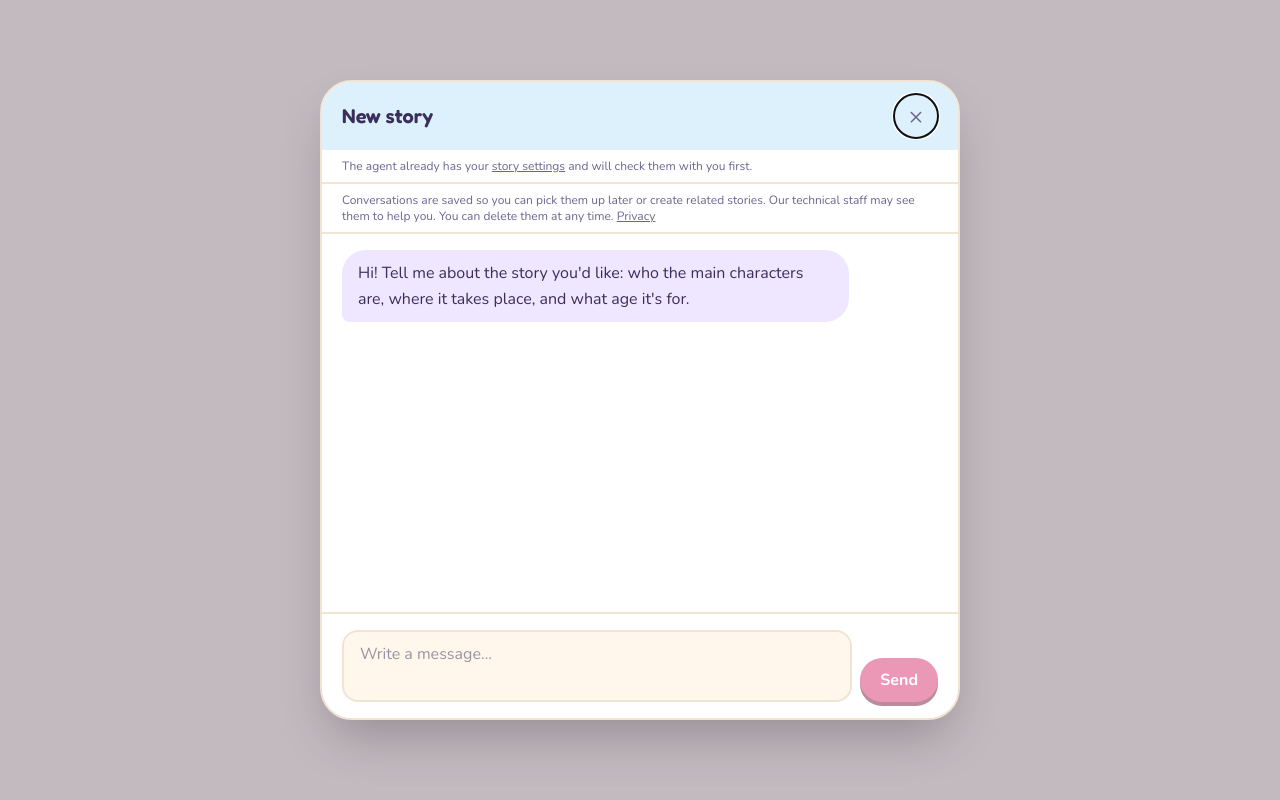
Test: when something goes wrong › starts over when the conversation has expired
Step 1. Type "are you there?" into the text box → x=597, y=666, box [342,630,852,702]
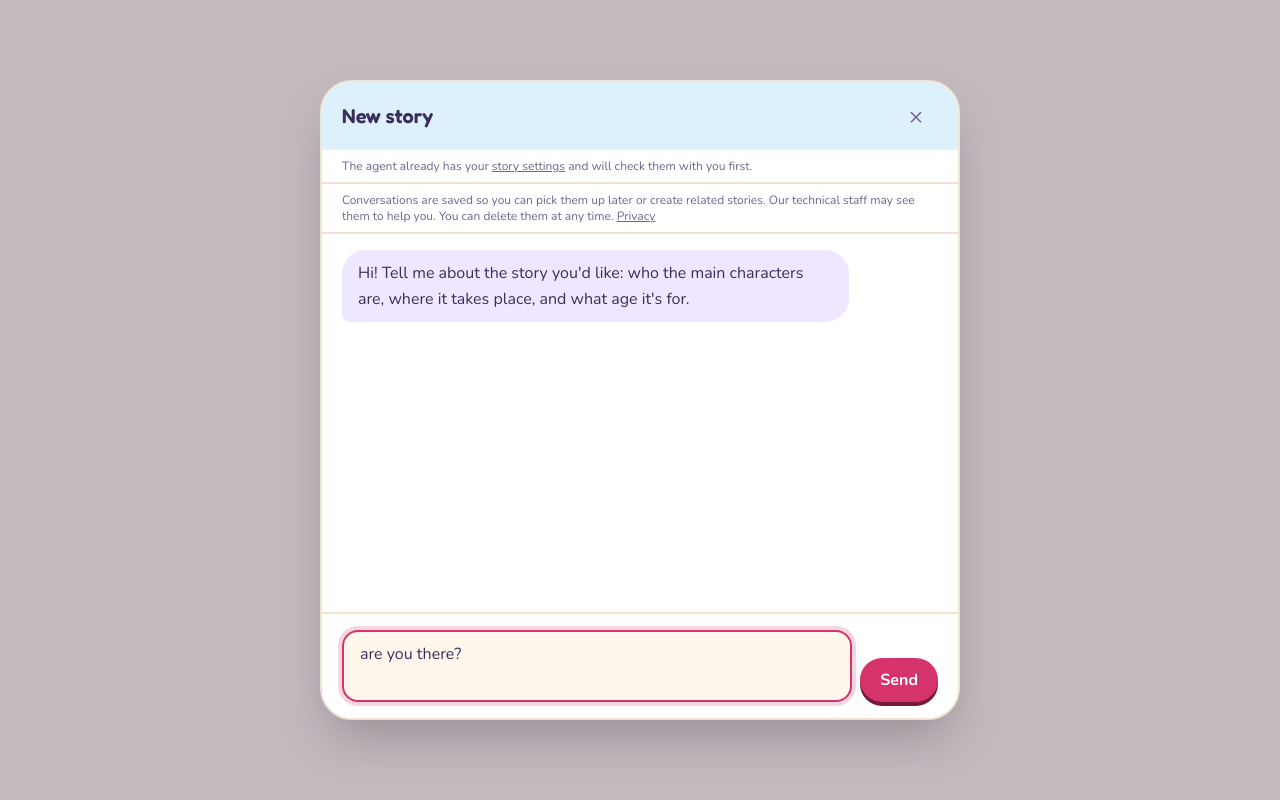
Step 2. Press Enter
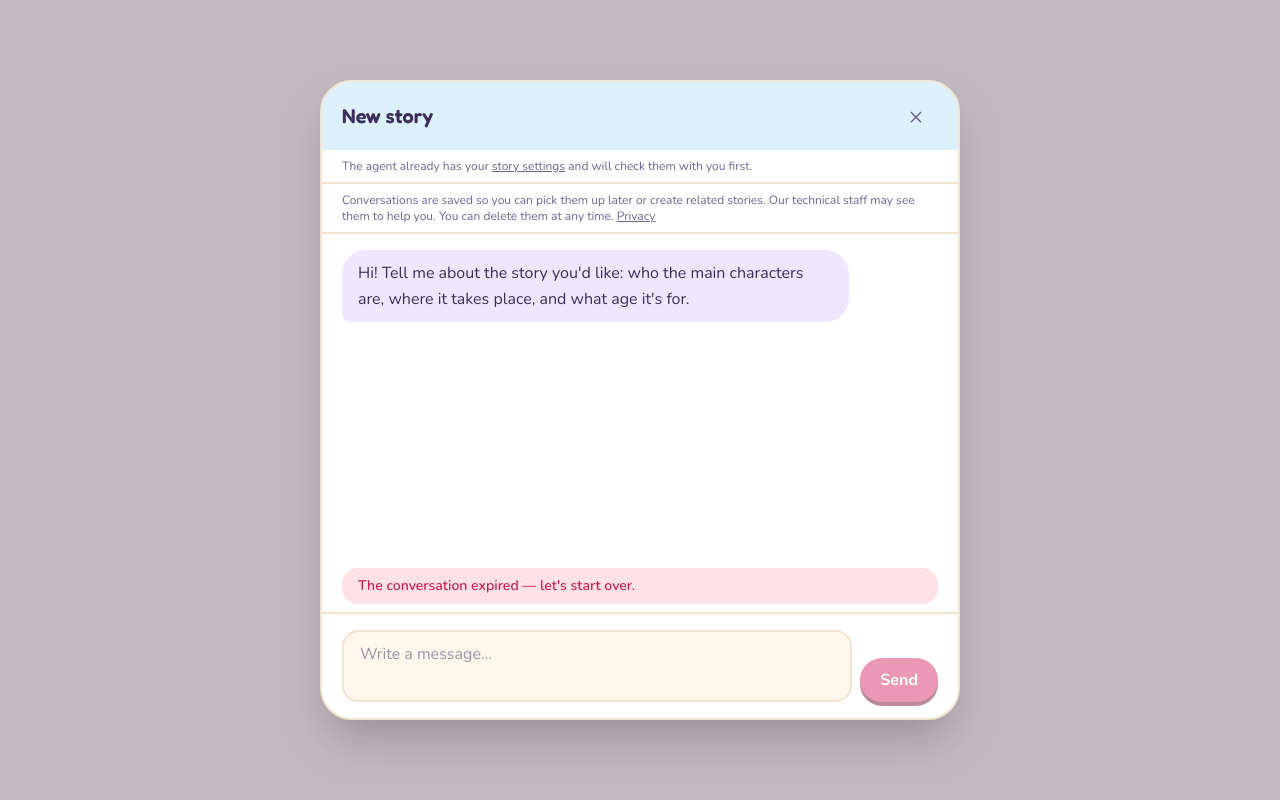
Check: the text "Tell me about the story you'd like" is shown, box [358,262,808,310]
Check: the message shows "start over", box [358,576,635,595]
